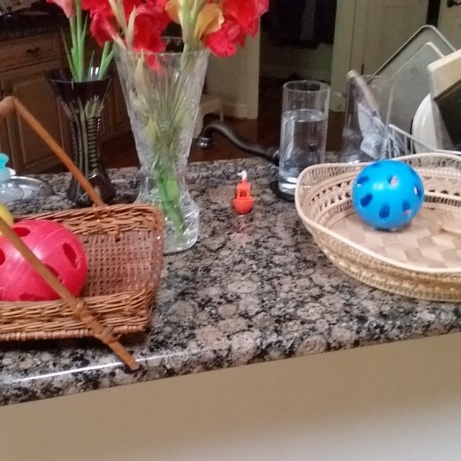blueball: (349, 155, 426, 233)
redball: (2, 218, 94, 306)
